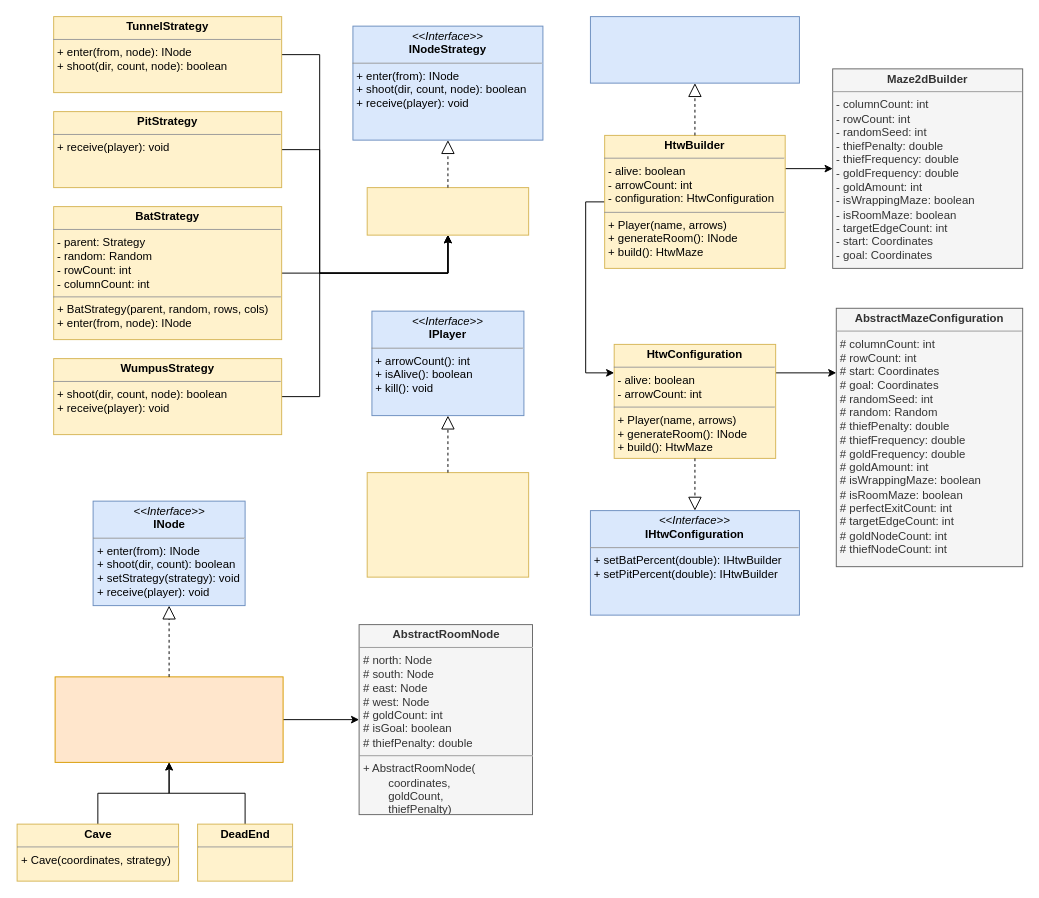
This 1039x898 diagram has some shape labels left out. Here are the shapes that lost their labels. From the top down, the centre of each, then its label:
At (x=694, y=49): "<<Interface>> IHtwBuilder".
At (x=447, y=211): "StandardStrategy".
At (x=447, y=524): "Player - alive: boolean - arrowCount: int + Player(name, arrows)".
At (x=168, y=719): "AbstractCave - strategy: Strategy + AbstractCave(coordinates, strategy)".
